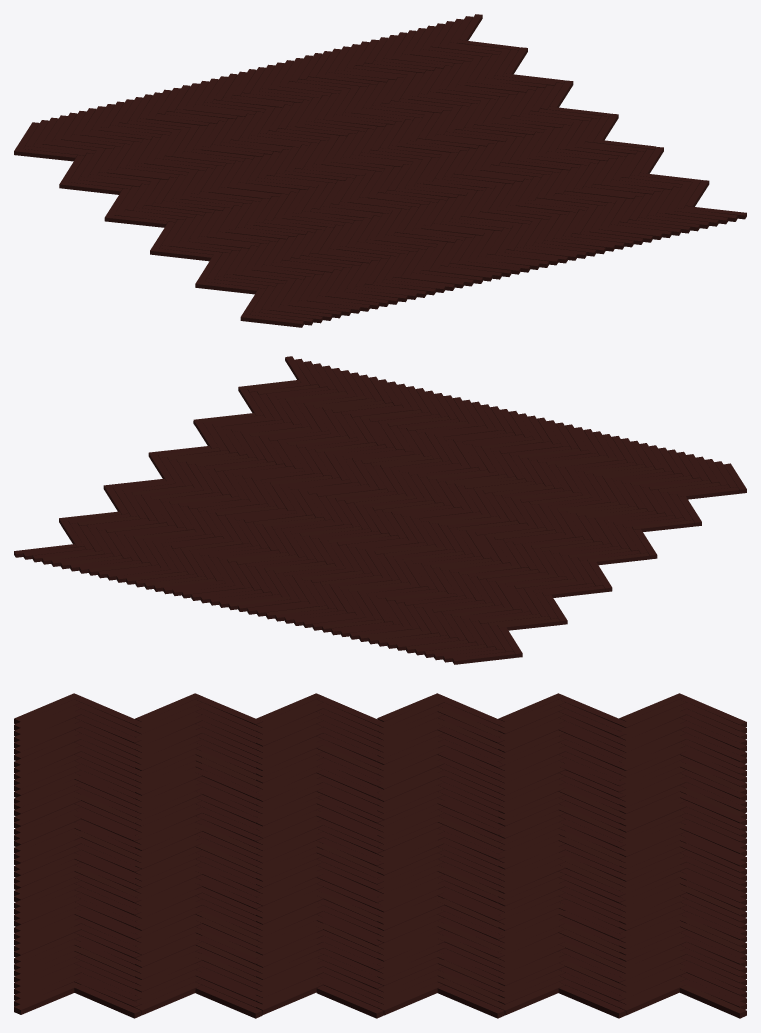
File: pod.fbx
3 renders of one model, top to bottom at view 1: azimuth 30°, elevation 25°; view 2: azimuth 150°, elevation 25°; view 3: azimuth 270°, elevation 25°, orthographic. The views are drawn at different scales.
Visible parts, largest first — view 1: Cube.002; view 2: Cube.002; view 3: Cube.002.
Boxes of the visible parts, <box> form: Cube.002: <box>14,14,746,327</box>; Cube.002: <box>14,356,746,664</box>; Cube.002: <box>14,693,746,1018</box>.
Size of the model in its own units: 259 by 267 by 2.21.
